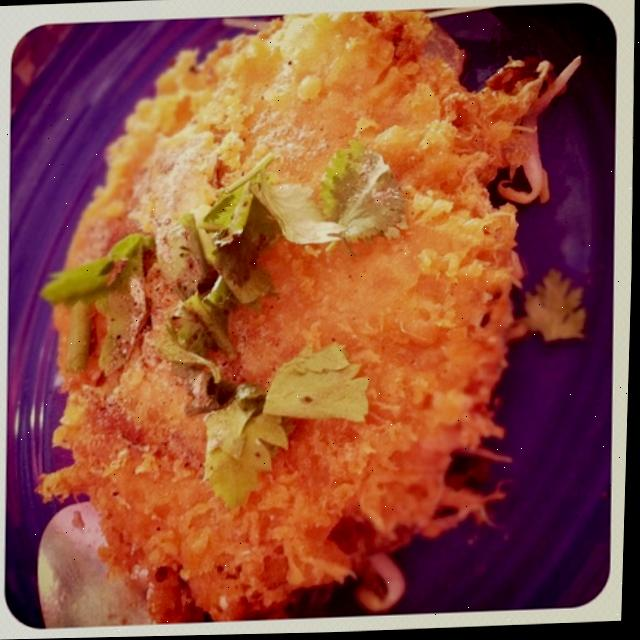炸货点心: (43, 18, 565, 604)
蛋糕甜品: (43, 18, 565, 604)
